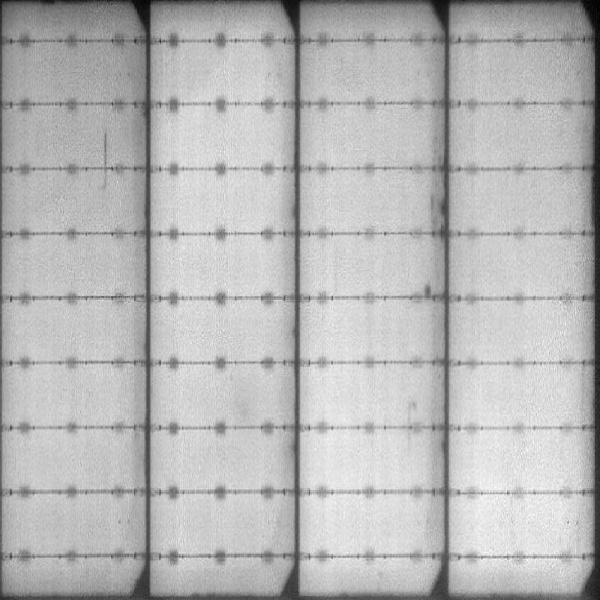scratch: (99, 131, 113, 192)
